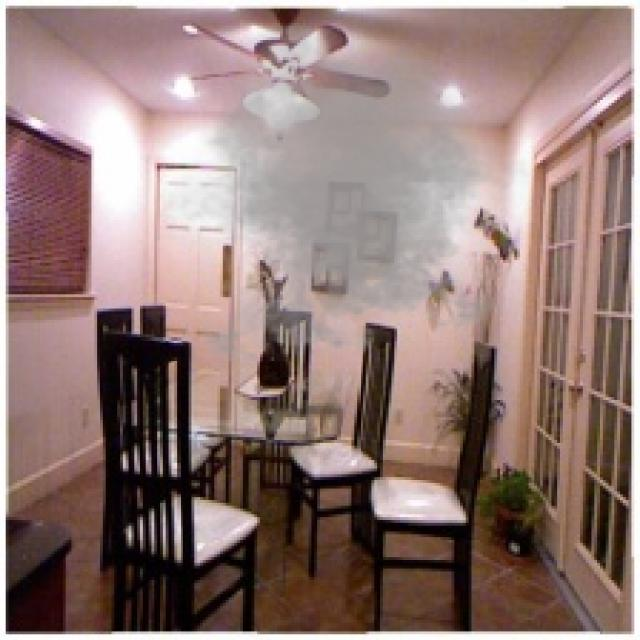smoke: (140, 17, 554, 374)
